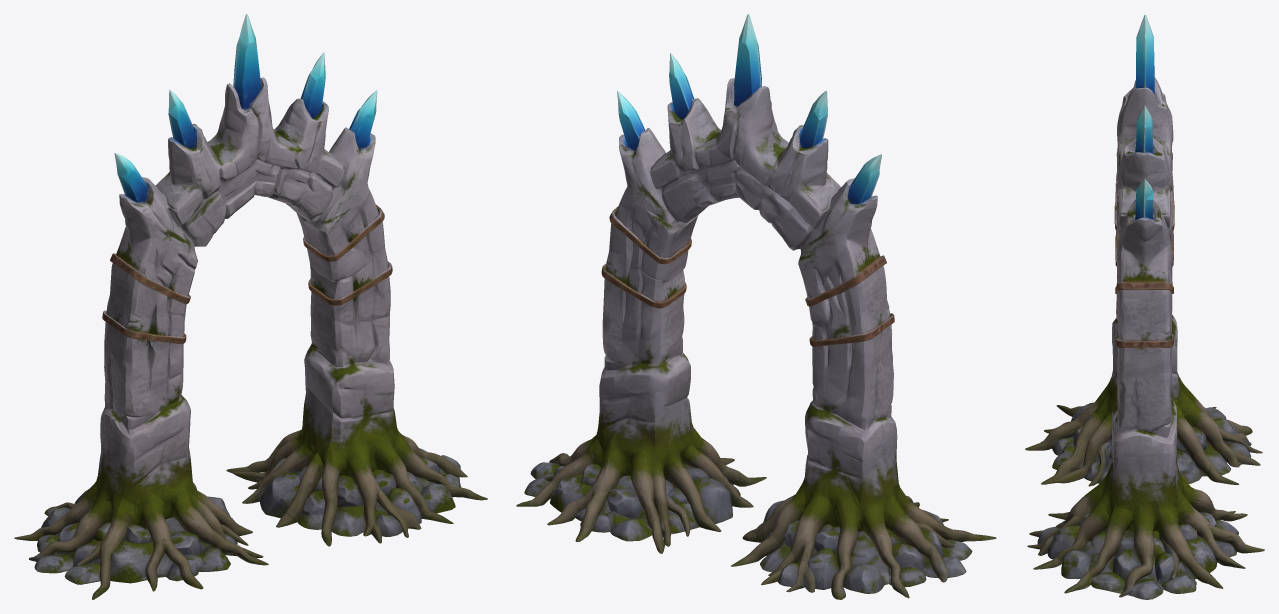
Rendered from crown_arch_hero.glb.
3 renders of one model, left to right at view 1: azimuth 30°, elevation 25°; view 2: azimuth 150°, elevation 25°; view 3: azimuth 270°, elevation 25°, orthographic. The views are drawn at different scales.
Parts seen in each view (by area): view 1: Mesh_0; view 2: Mesh_0; view 3: Mesh_0.
Boxes of the visible parts, x1=… form: Mesh_0: x1=14, y1=14, x2=487, y2=599; Mesh_0: x1=516, y1=14, x2=996, y2=599; Mesh_0: x1=1025, y1=14, x2=1264, y2=599.
Bounding box in the file's own units: 1.68 × 1.9 × 0.8508.
1 material, 1 textured.
